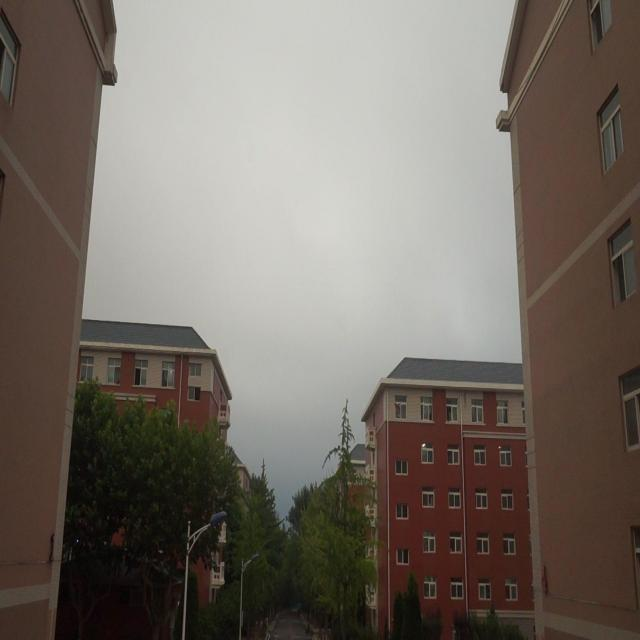UAV: (394, 402, 403, 410)
